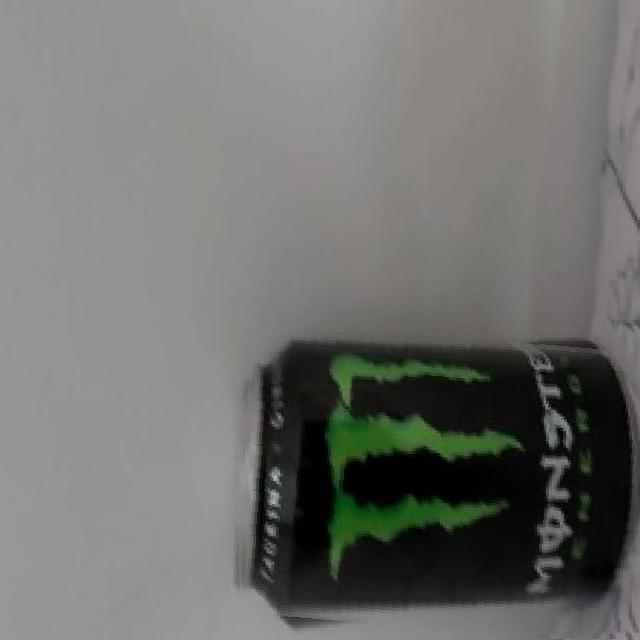recyclable: (234, 333, 640, 639)
